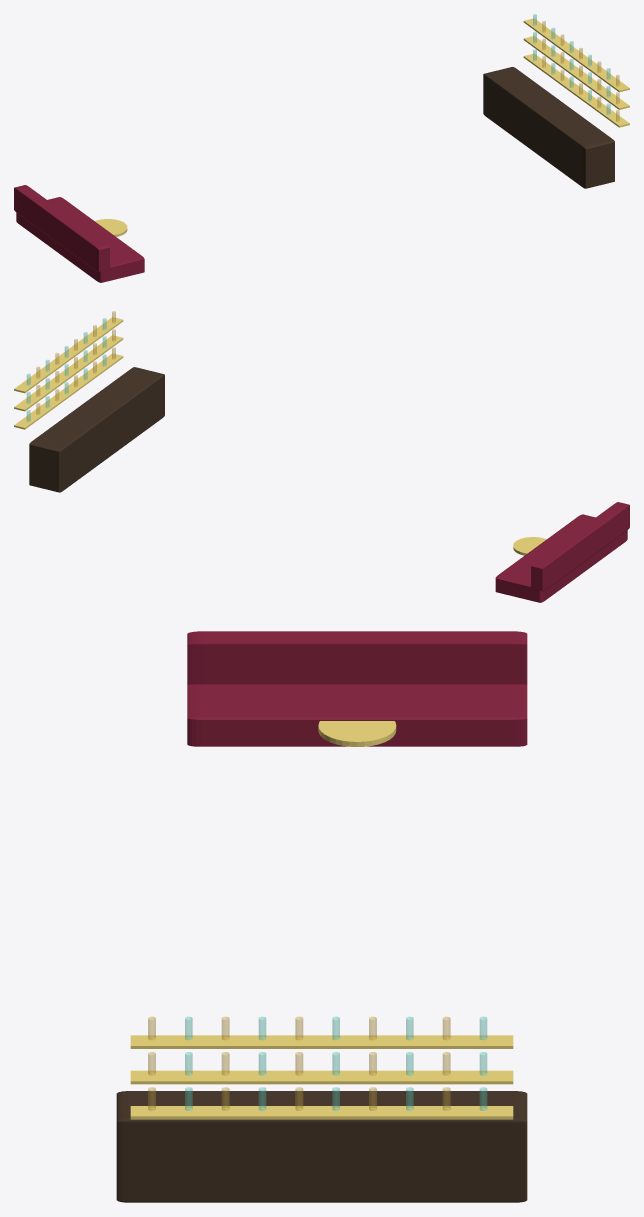
The model's file is club_lounge_bar.glb.
The picture shows the model from 3 angles, top to bottom: view 1: azimuth 30°, elevation 25°; view 2: azimuth 150°, elevation 25°; view 3: azimuth 270°, elevation 25°; orthographic projection. The views are drawn at different scales.
Parts seen in each view (by area): view 1: Cocktail_Bar_Counter, VIP_Sofa_Backrest, VIP_Sofa_Base, Cube.049, Cube.048, Cube.050; view 2: Cocktail_Bar_Counter, VIP_Sofa_Backrest, VIP_Sofa_Base, Cube.049, Cube.048, Cube.050; view 3: Cocktail_Bar_Counter, VIP_Sofa_Base, VIP_Sofa_Backrest, Cube.049, Cube.048, Cube.050, Cylinder.016.
Boxes of the visible parts, box(x1,y1,x2,y2) form: Cocktail_Bar_Counter: box(483, 67, 614, 188); VIP_Sofa_Backrest: box(14, 185, 109, 271); VIP_Sofa_Base: box(16, 197, 144, 282); Cube.049: box(523, 36, 629, 109); Cube.048: box(523, 53, 629, 127); Cube.050: box(523, 18, 629, 92); Cocktail_Bar_Counter: box(29, 367, 164, 492); VIP_Sofa_Backrest: box(531, 502, 629, 591); VIP_Sofa_Base: box(495, 514, 627, 602); Cube.049: box(14, 335, 123, 411); Cube.048: box(14, 353, 123, 429); Cube.050: box(14, 317, 123, 393); Cocktail_Bar_Counter: box(116, 1091, 527, 1202); VIP_Sofa_Base: box(187, 684, 527, 746); VIP_Sofa_Backrest: box(187, 631, 527, 684); Cube.049: box(130, 1070, 513, 1084); Cube.048: box(130, 1106, 513, 1119); Cube.050: box(130, 1035, 513, 1048); Cylinder.016: box(318, 721, 396, 746).
Size of the model in its own units: 16.88 by 3.05 by 5.8.
